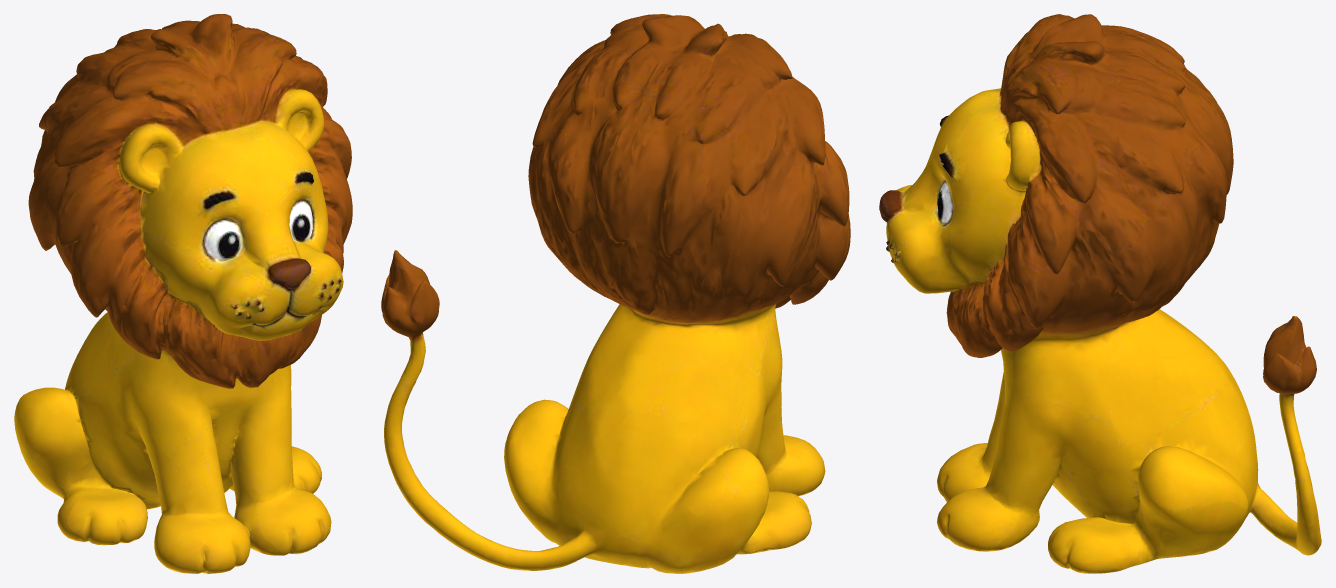
3 views of the same model, side by side, from view 1: azimuth 30°, elevation 25°; view 2: azimuth 150°, elevation 25°; view 3: azimuth 270°, elevation 25° (orthographic).
Visible parts, largest first — view 1: mesh_node; view 2: mesh_node; view 3: mesh_node.
Part boxes in pixels (x1,y1,x2,y2): mesh_node: (14,14,352,573); mesh_node: (381,14,850,573); mesh_node: (879,14,1321,573).
Size of the model in its own units: 1.44 by 1.9 by 1.57.
1 material, 1 textured.
